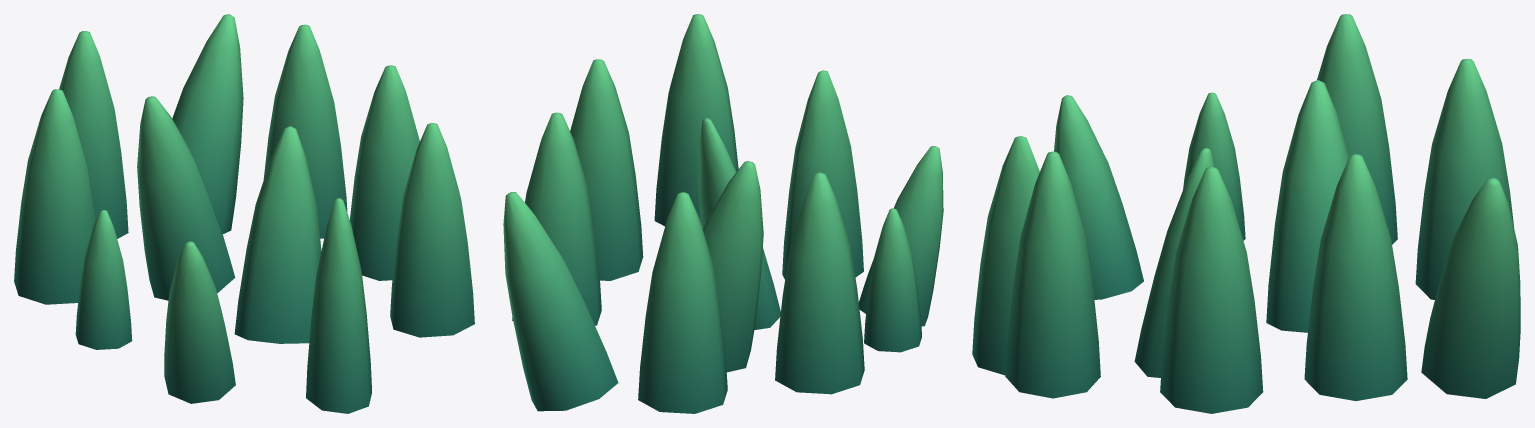
The model's file is Grass.003.fbx.
The picture shows the model from 3 angles, left to right: view 1: azimuth 30°, elevation 25°; view 2: azimuth 150°, elevation 25°; view 3: azimuth 270°, elevation 25°; orthographic projection. The views are drawn at different scales.
Parts seen in each view (by area): view 1: Grass.003; view 2: Grass.003; view 3: Grass.003.
Part boxes in pixels (bbox=[...]): Grass.003: bbox=[14, 14, 474, 413]; Grass.003: bbox=[503, 14, 943, 413]; Grass.003: bbox=[972, 14, 1520, 413].
Size of the model in its own units: 0.4621 by 0.2956 by 0.5451.
